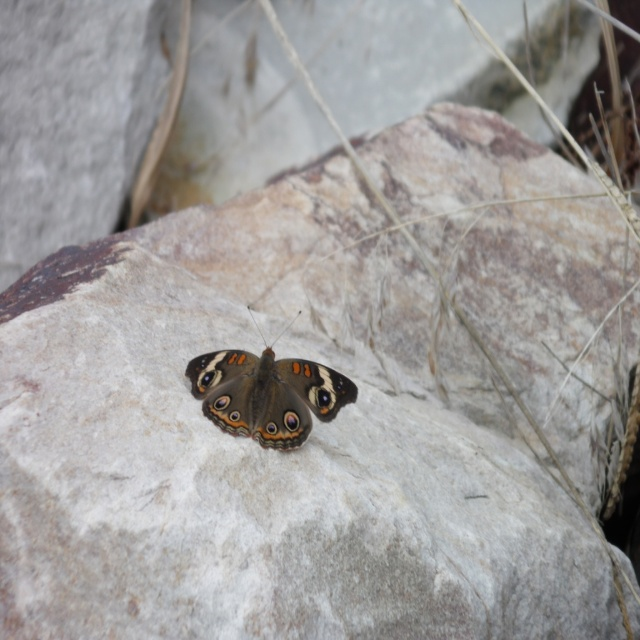Butterfly: (187, 315, 350, 452)
